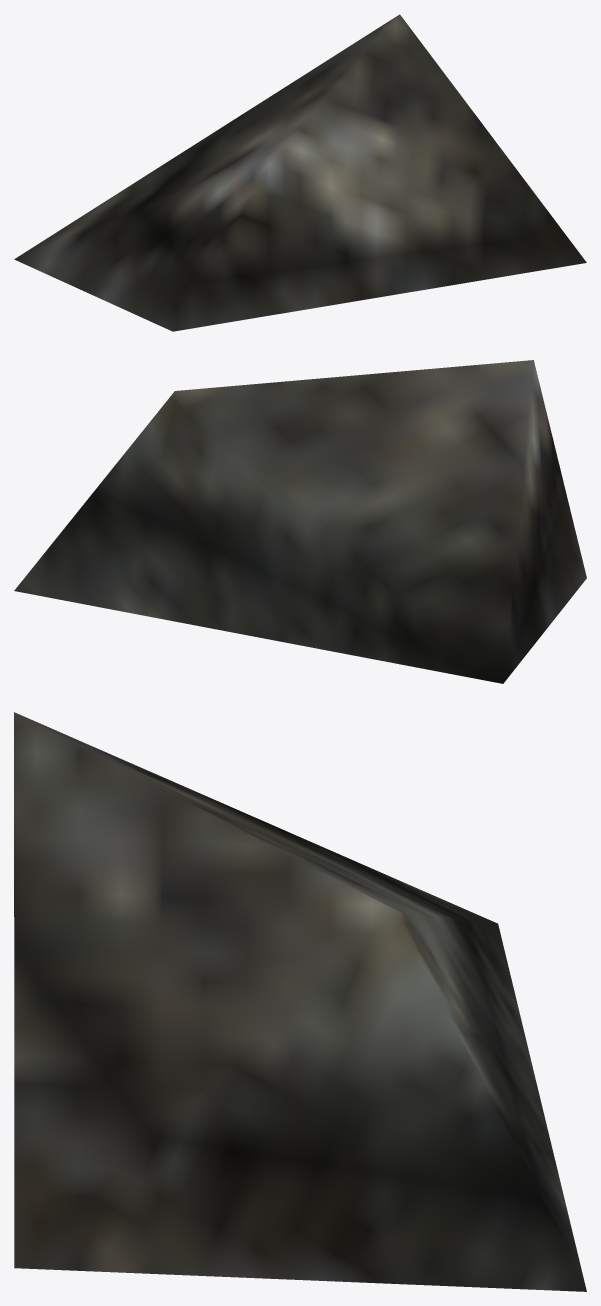
The model's file is Rock2_3_LOD1.fbx.
The picture shows the model from 3 angles, top to bottom: view 1: azimuth 30°, elevation 25°; view 2: azimuth 150°, elevation 25°; view 3: azimuth 270°, elevation 25°; orthographic projection. The views are drawn at different scales.
Visible parts, largest first — view 1: polySurface13; view 2: polySurface13; view 3: polySurface13.
Part boxes in pixels (<box>): polySurface13: <box>14,14,586,331</box>; polySurface13: <box>14,360,586,683</box>; polySurface13: <box>14,712,586,1291</box>.
Size of the model in its own units: 1.09 by 0.4209 by 0.7143.
